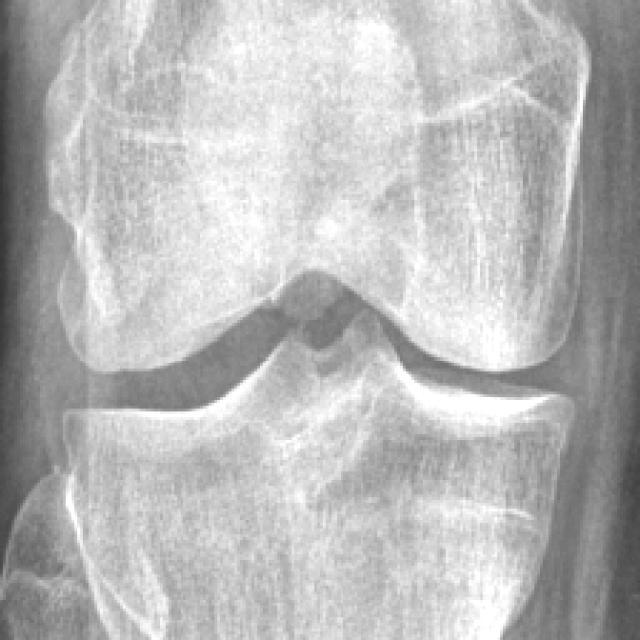femur: (51, 1, 583, 366)
tibia: (69, 326, 569, 634)
